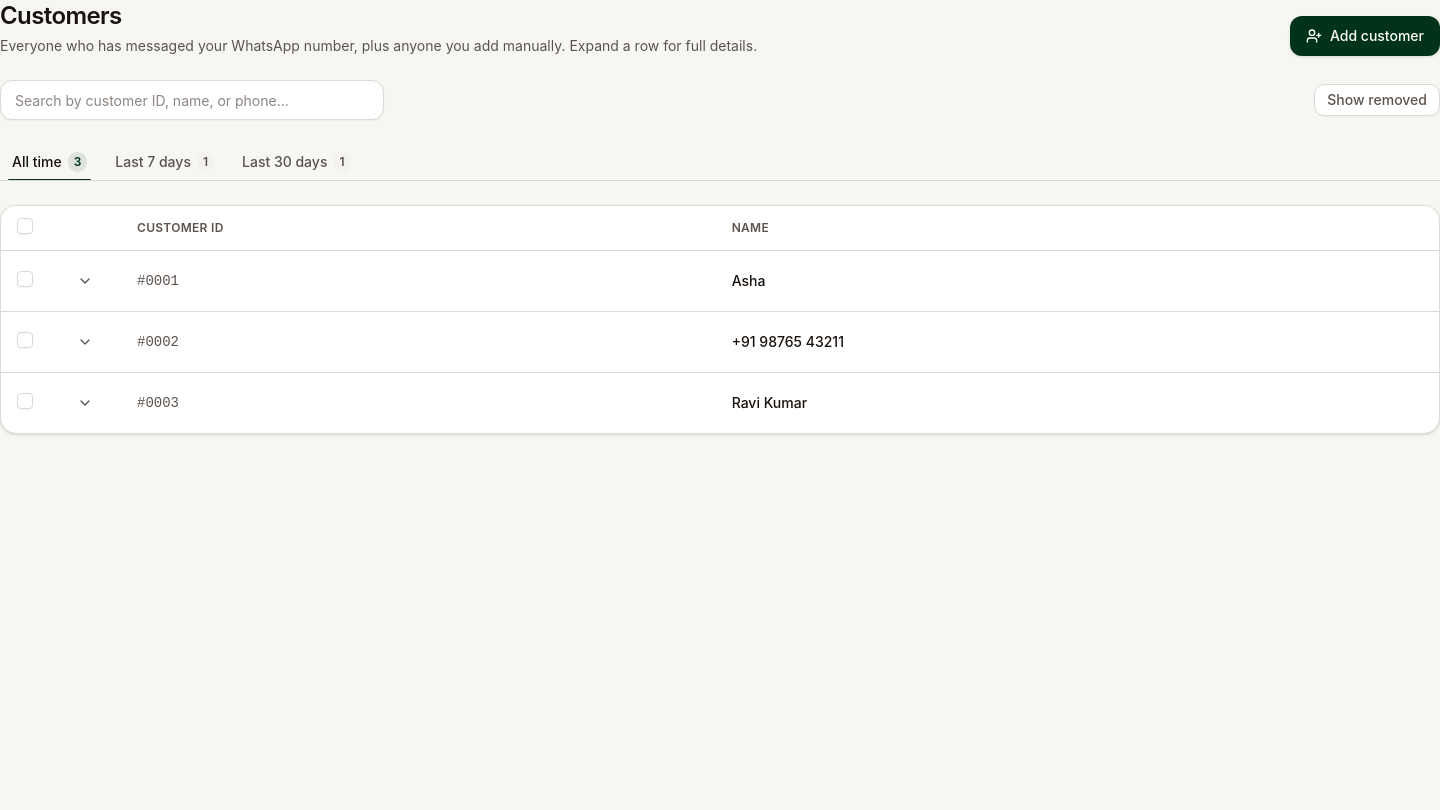
it: CustomersPage › gates removing a customer behind a confirmation dialog, then removes on confirm
Later steps or results of the test are not shown.
Click the button named "Expand Asha": (85, 280) 65,260 -> 105,300
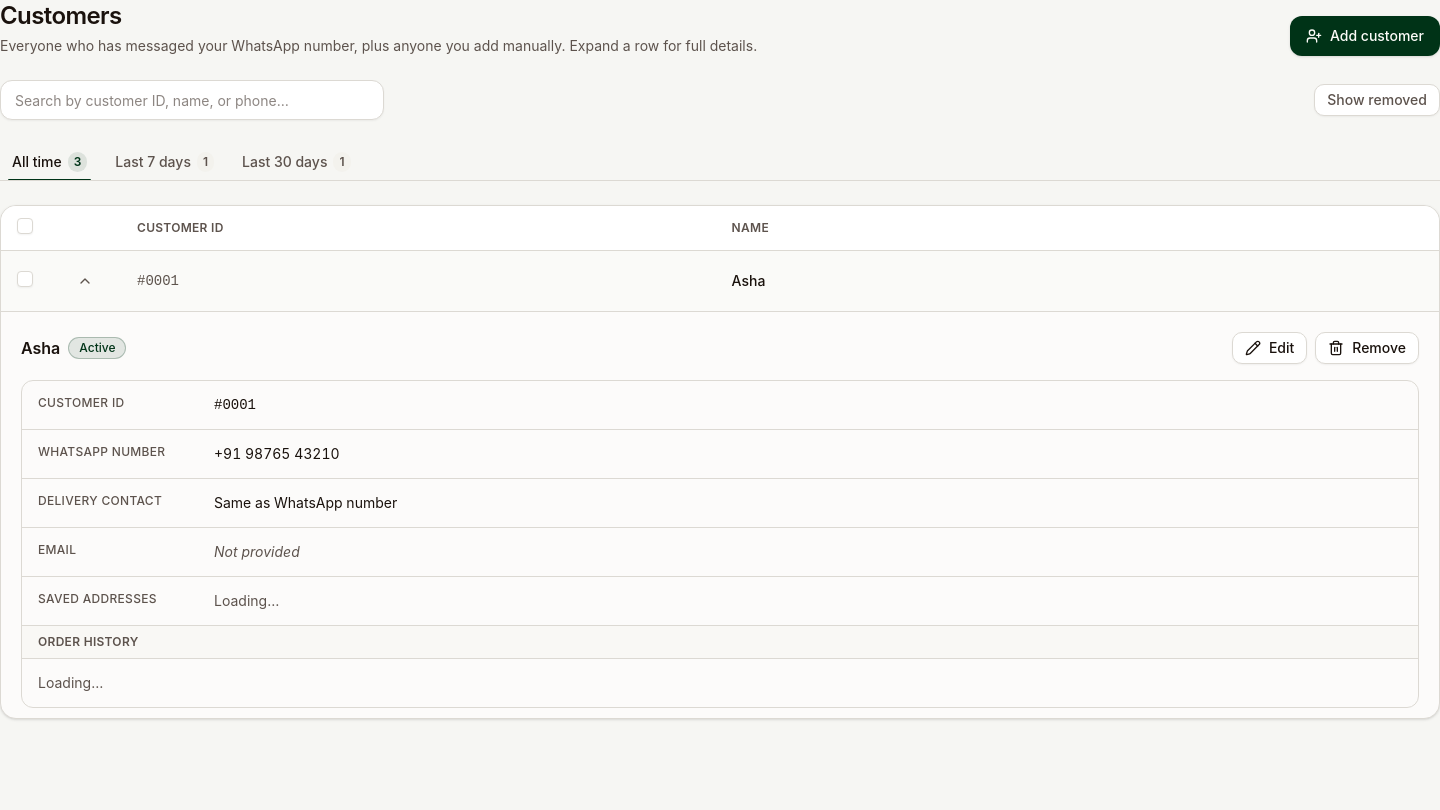
Click the button with aria-label "Remove Asha": (1367, 348) 1315,332 -> 1419,364
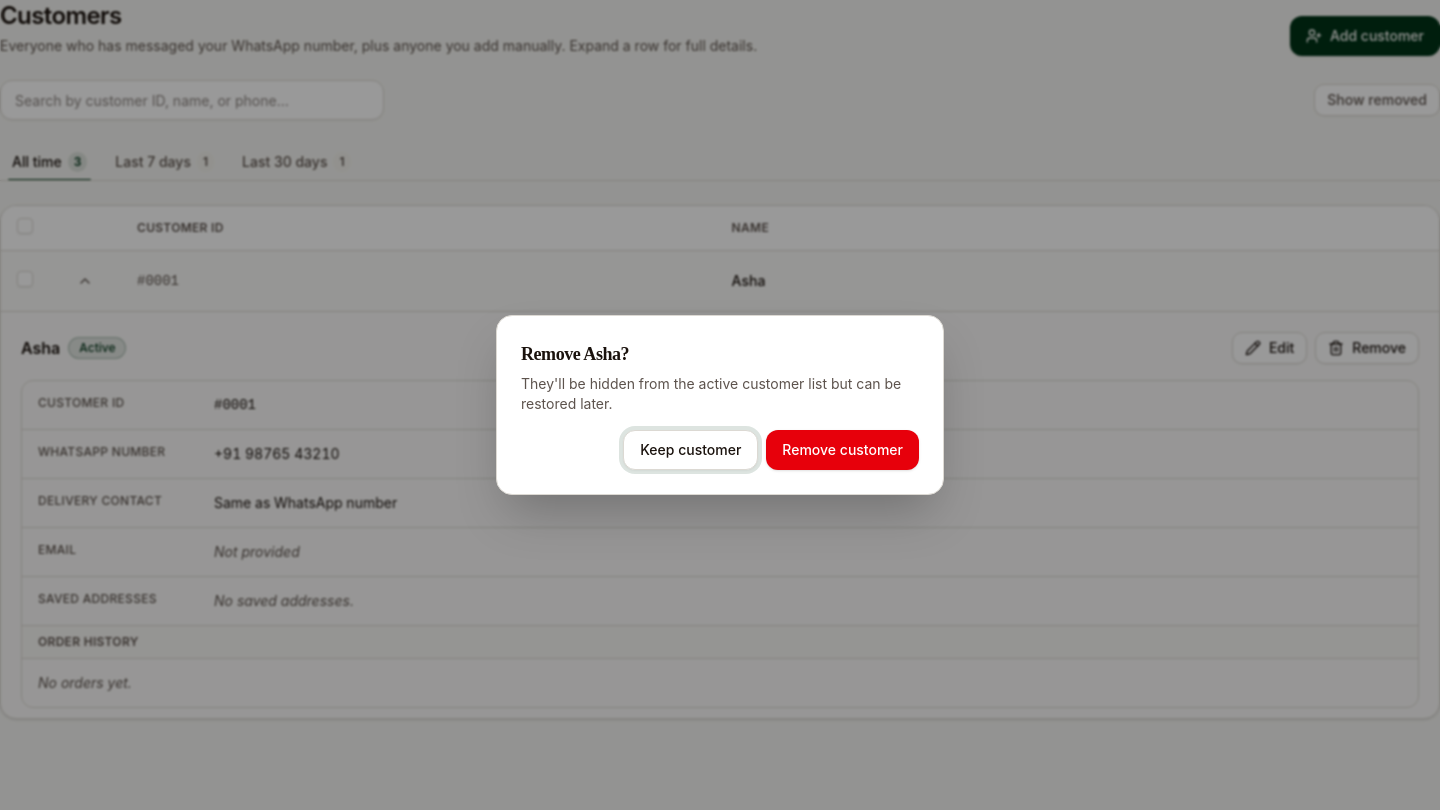
Now the dialog is shown, box 496,315 -> 944,495
Now the heading "Remove Asha?" is shown, box 521,344 -> 629,364
